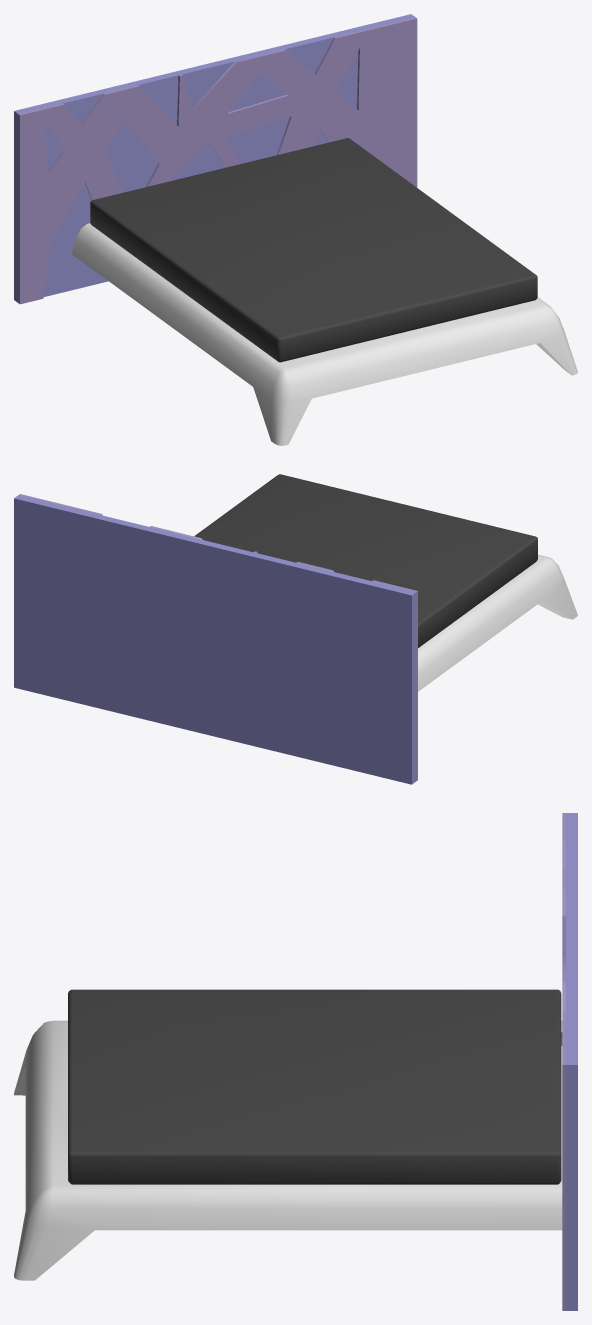
The model's file is MZDBD03A.FBX.
3 renders of one model, top to bottom at view 1: azimuth 30°, elevation 25°; view 2: azimuth 150°, elevation 25°; view 3: azimuth 270°, elevation 25°, orthographic. The views are drawn at different scales.
Visible parts, largest first — view 1: MZDBD03A; view 2: MZDBD03A; view 3: MZDBD03A.
Boxes of the visible parts, bbox=[...] form: MZDBD03A: bbox=[14, 14, 577, 445]; MZDBD03A: bbox=[14, 474, 577, 784]; MZDBD03A: bbox=[14, 813, 577, 1310].
Size of the model in its own units: 220 by 208 by 100.
